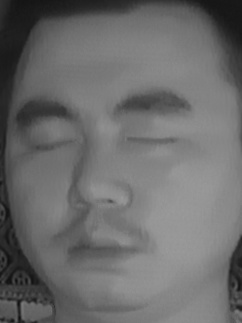blink: (25, 123, 79, 162), (126, 120, 180, 157)
mouth: (55, 216, 140, 275)
